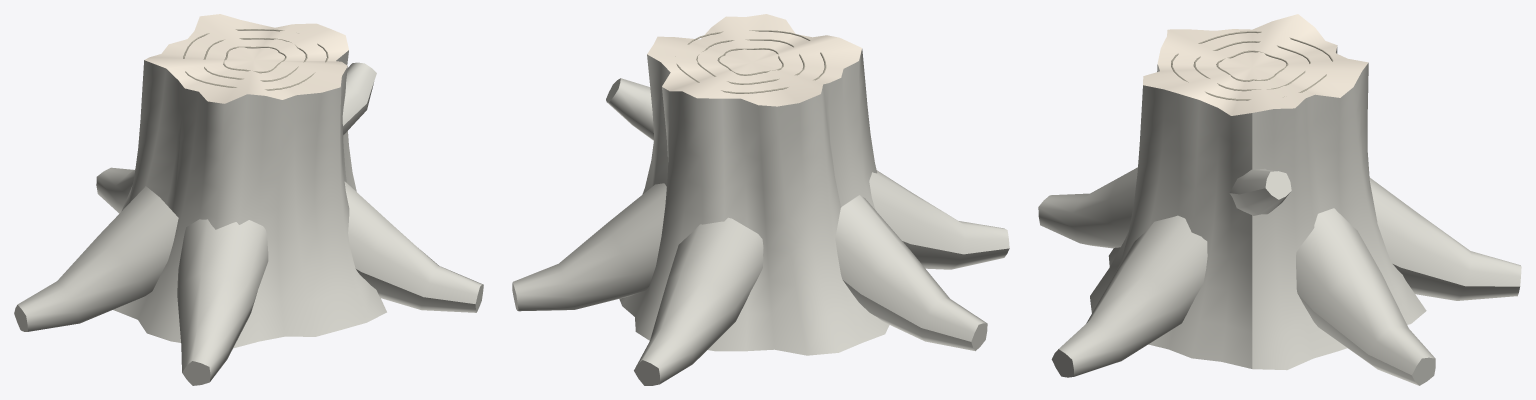
File: SM_WLA_Stump_B.fbx
The picture shows the model from 3 angles, left to right: view 1: azimuth 30°, elevation 25°; view 2: azimuth 150°, elevation 25°; view 3: azimuth 270°, elevation 25°; orthographic projection. The views are drawn at different scales.
Parts seen in each view (by area): view 1: SM_WLA_Stump_B; view 2: SM_WLA_Stump_B; view 3: SM_WLA_Stump_B.
Part boxes in pixels (bbox=[...]): SM_WLA_Stump_B: bbox=[14, 14, 483, 385]; SM_WLA_Stump_B: bbox=[512, 14, 1009, 385]; SM_WLA_Stump_B: bbox=[1038, 14, 1521, 385].
Size of what is drawn, in the model's own units: 1.48 by 1.49 by 0.838.
